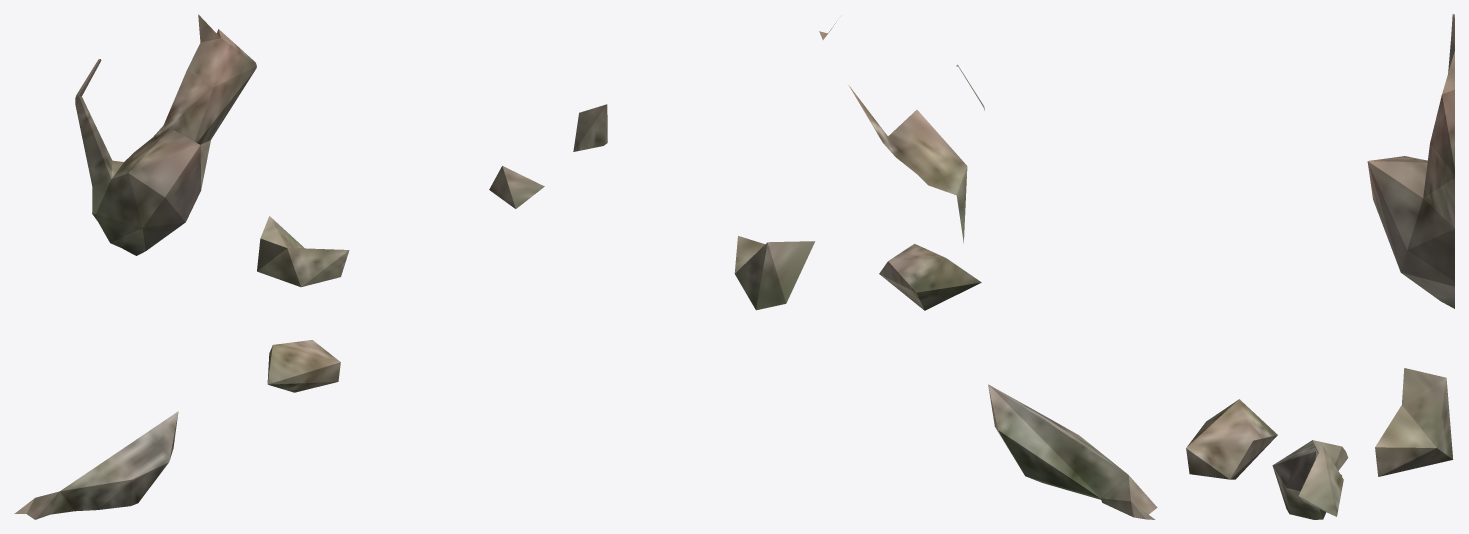
The picture shows the model from 3 angles, left to right: view 1: azimuth 30°, elevation 25°; view 2: azimuth 150°, elevation 25°; view 3: azimuth 270°, elevation 25°; orthographic projection. The views are drawn at different scales.
Size of the model in its own units: 2.45 by 1.88 by 0.8457.
1 material, 1 textured.
